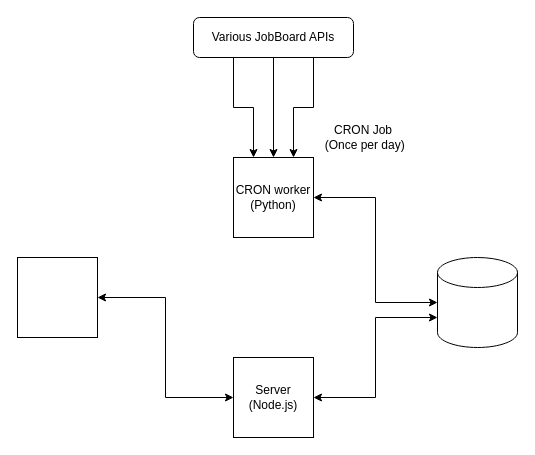
Some shapes in this 535 by 455 pixel diagram are drawn without their labels. Here are the shapes that lost their labels. From the top down, the centre of each, then its label:
the point at 57,297: Client (React)
the point at 477,302: Database (MongoDB)
